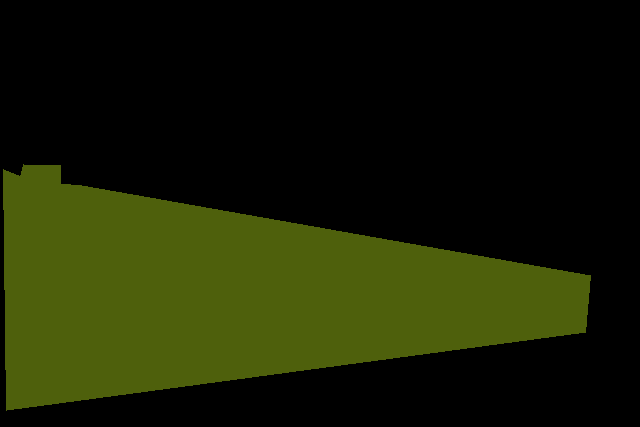Train: (3, 164, 590, 410)
